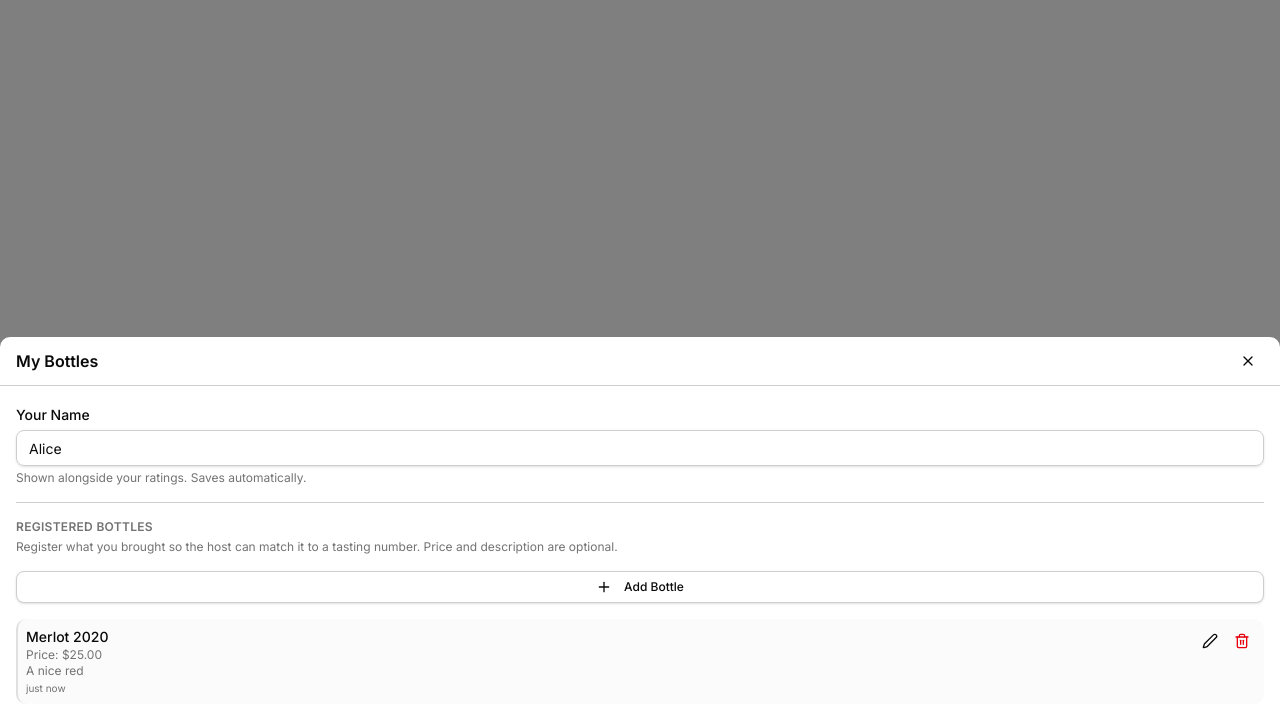
Test: MyBottlesSheet › shows edit form when edit button is clicked
Step 1. Click the button with test id "edit-btn-item-1" → (1210, 641), box left=1196, top=627, right=1224, bottom=655
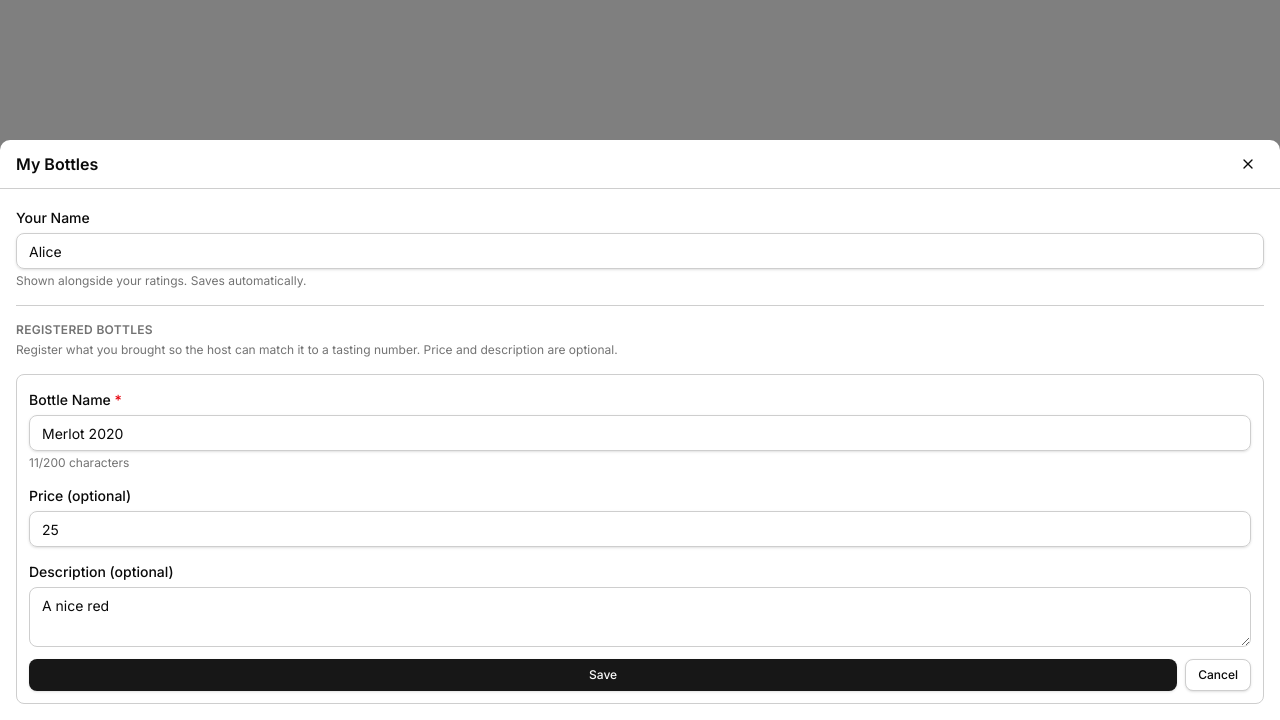
Check: the element with test id "edit-form-item-1" is shown, box left=16, top=374, right=1264, bottom=704
Check: the field labelled "Bottle Name *" holds "Merlot 2020", box left=29, top=415, right=1251, bottom=451
